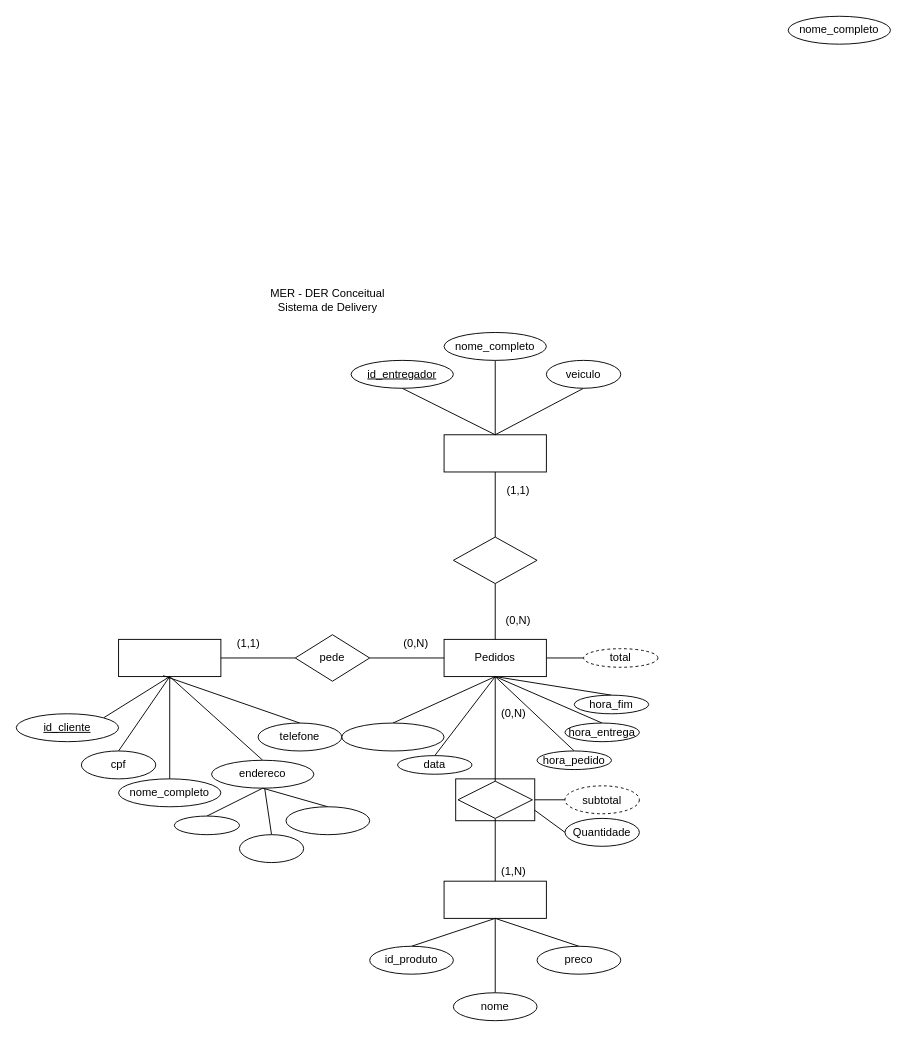
This 907x1037 diagram has some shape labels left out. The shapes that lost their labels are listed below. From the top down, each one's centre as x and y in pixels, then its label:
At pixel 494 453: "Entregadores".
At pixel 494 560: "entrega".
At pixel 169 657: "Clientes".
At pixel 392 736: "id_pedido".
At pixel 494 799: "Itens".
At pixel 206 825: "cep".
At pixel 327 820: "complemento".
At pixel 271 848: "numero".
At pixel 494 899: "Produtos".
